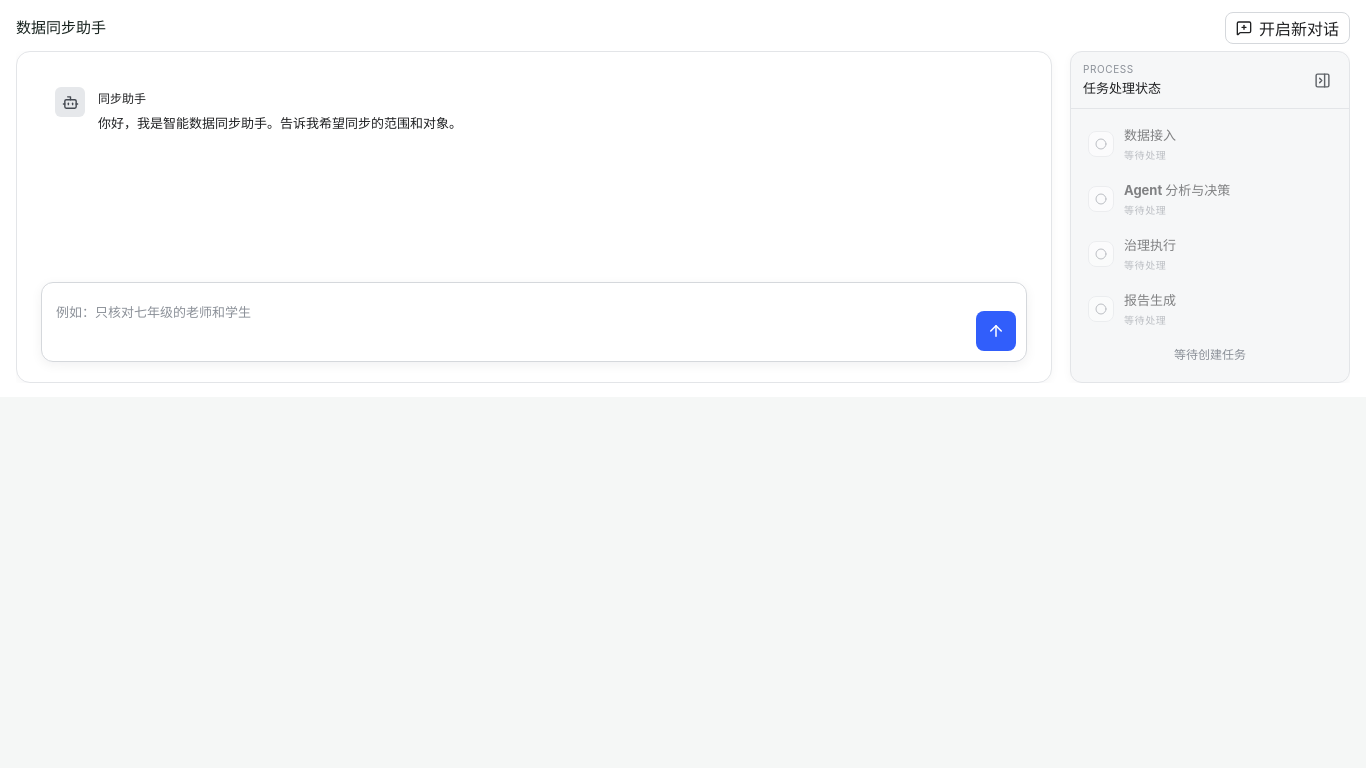
Test: backend Agent conversation › shows backend confirmation and locks ordinary input after task start
Type "同步全校教师" into the text box named "对账目标" at (512, 322), box [56,293,968,351]
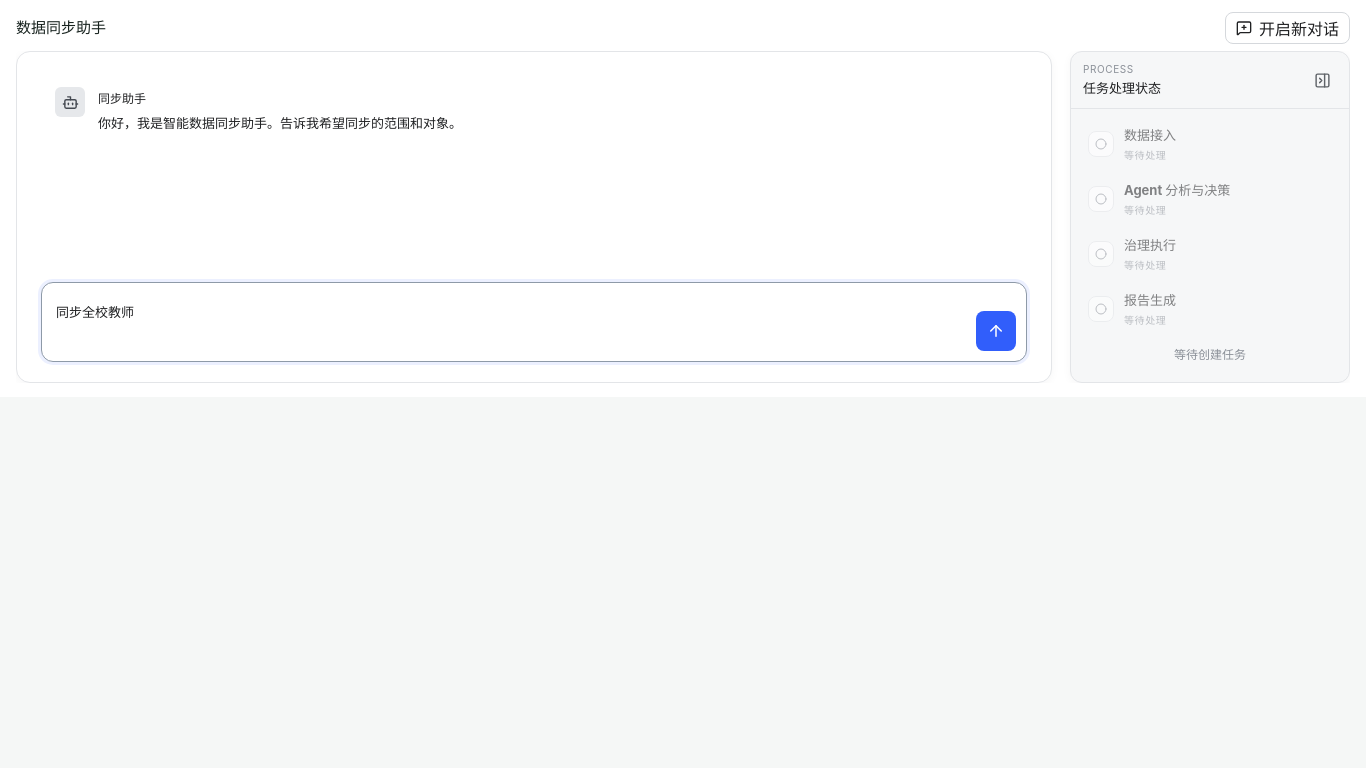
Click the button named "发送" at (996, 331), box [976,311,1016,351]
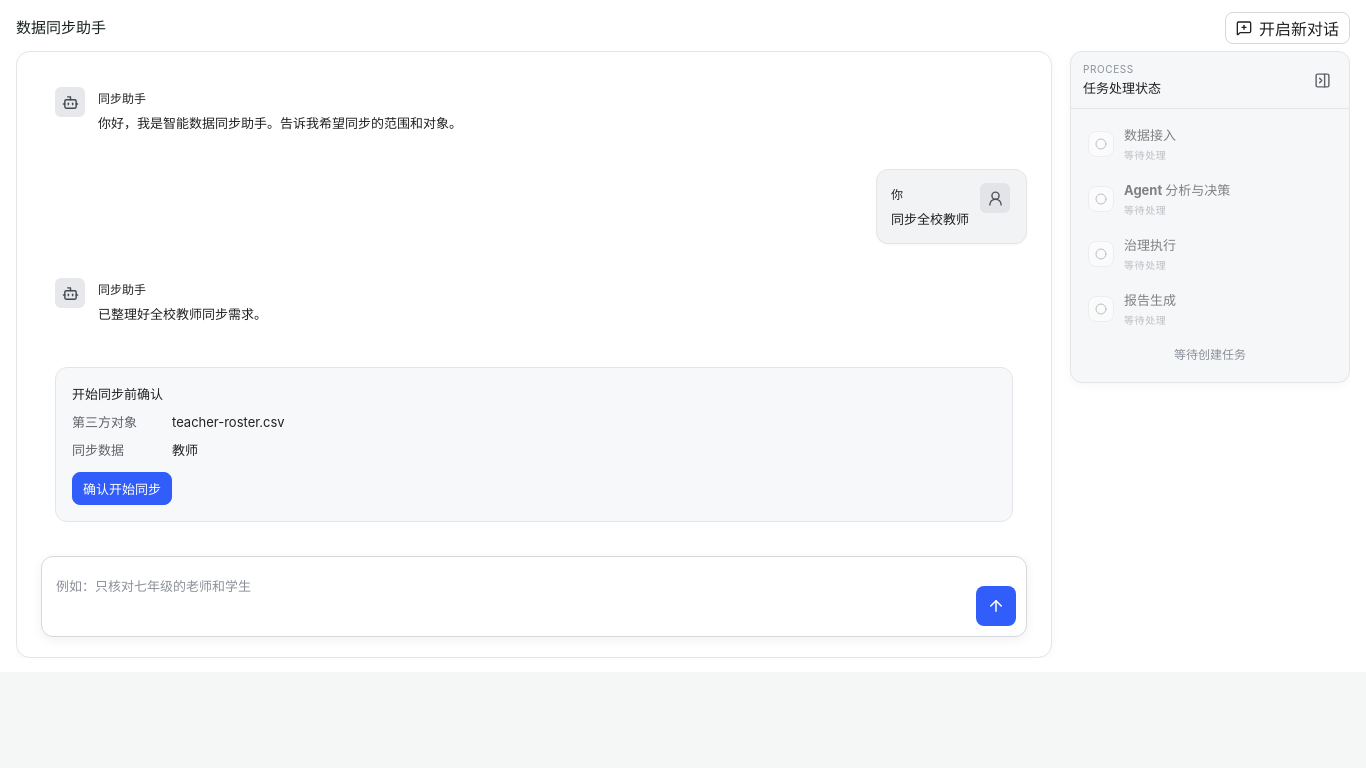
Check: the text "第三方对象" is shown, box [72,414,137,430]
Check: the text "teacher-roster.csv" is shown, box [172,414,285,430]
Check: the text "同步数据" is shown, box [72,442,124,458]
Click the button "确认开始同步" at (122, 489), box [72,472,172,505]
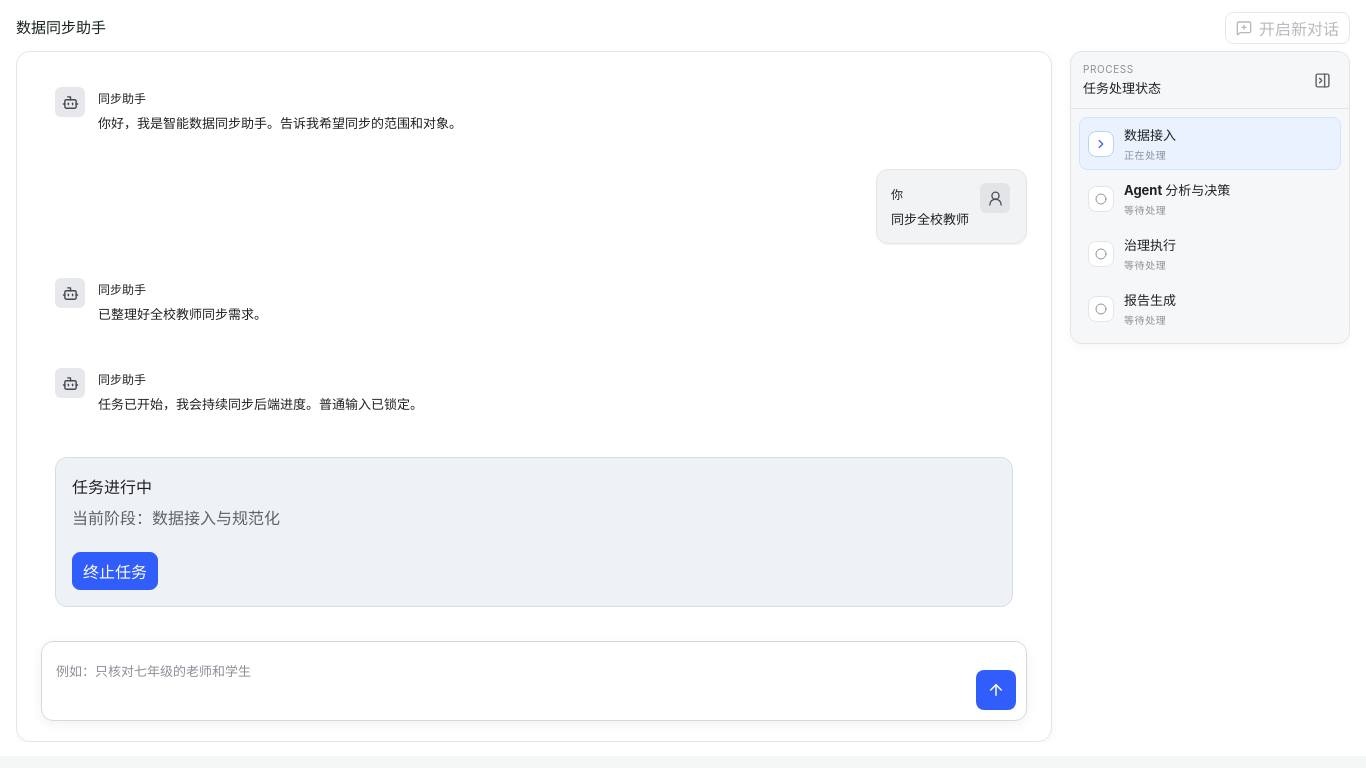
Check: the text "当前阶段：数据接入与规范化" is shown, box [72,508,280,528]
Check: the text box named "对账目标" is disabled, box [56,652,968,710]
Check: the button "终止任务" is shown, box [72,552,158,590]
